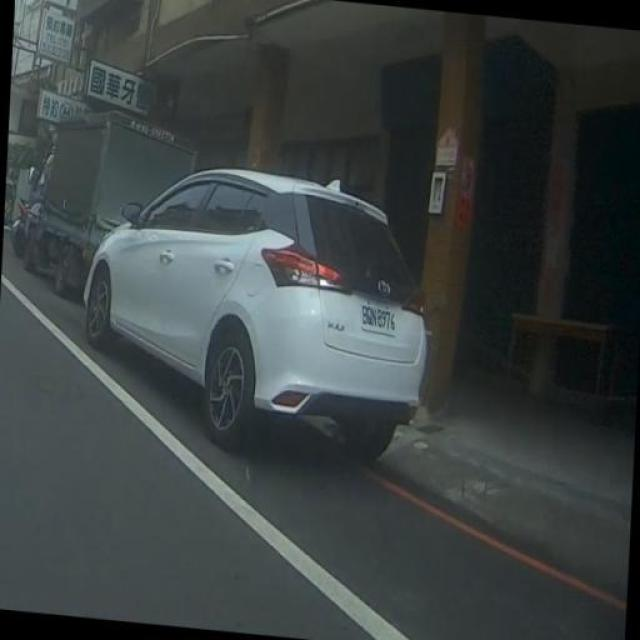illegalparking: (26, 131, 497, 457)
